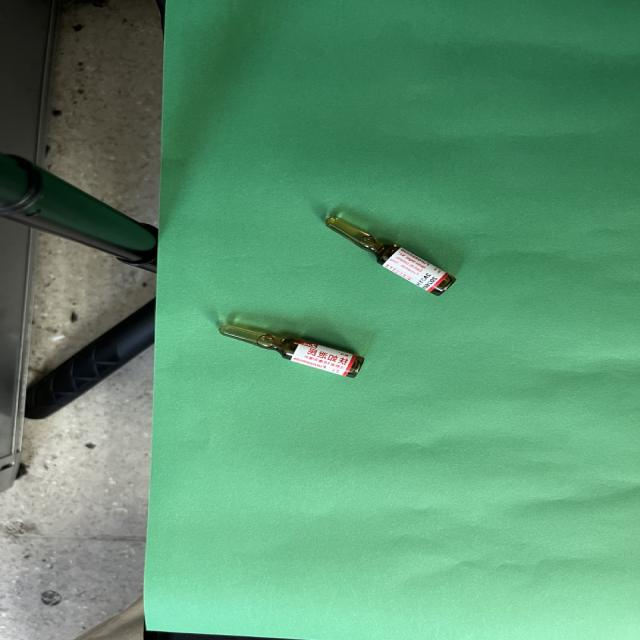Ampoules: (325, 216, 457, 296), (218, 324, 365, 378)
